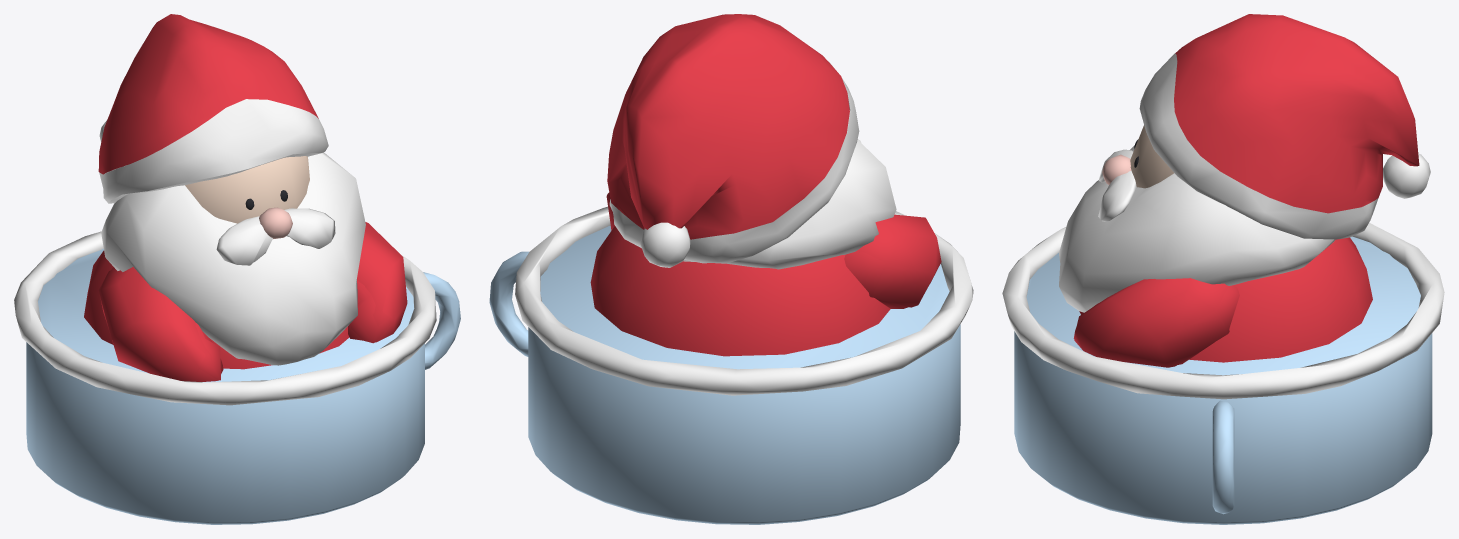
File: teacup.glb
3 views of the same model, side by side, from view 1: azimuth 30°, elevation 25°; view 2: azimuth 150°, elevation 25°; view 3: azimuth 270°, elevation 25° (orthographic). The views are drawn at different scales.
Parts seen in each view (by area): view 1: teacup_white, teacup_sky, teacup_red, teacup_skin, teacup_nose; view 2: teacup_red, teacup_sky, teacup_white; view 3: teacup_sky, teacup_red, teacup_white, teacup_skin, teacup_nose.
Part boxes in pixels (box(x1,y1,x2,y2)): teacup_white: box(14, 99, 436, 405); teacup_sky: box(26, 249, 460, 524); teacup_red: box(84, 14, 407, 381); teacup_skin: box(185, 156, 309, 223); teacup_nose: box(259, 207, 292, 238); teacup_red: box(590, 14, 941, 356); teacup_sky: box(489, 225, 960, 524); teacup_white: box(515, 61, 973, 395); teacup_sky: box(1014, 236, 1432, 524); teacup_red: box(1073, 14, 1419, 367); teacup_white: box(1002, 53, 1444, 399); teacup_skin: box(1130, 88, 1218, 188); teacup_nose: box(1102, 154, 1131, 184).
Bounding box in the file's own units: 3.25 × 2.98 × 2.85.
